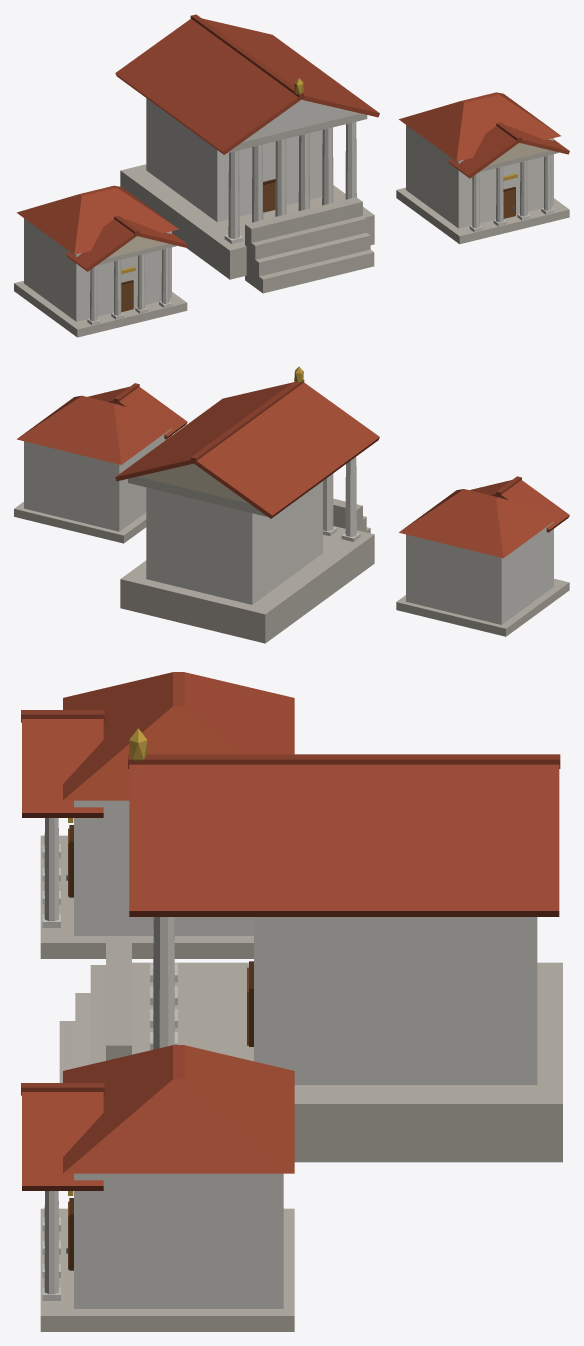
File: angel_court.glb
3 renders of one model, top to bottom at view 1: azimuth 30°, elevation 25°; view 2: azimuth 150°, elevation 25°; view 3: azimuth 270°, elevation 25°, orthographic. The views are drawn at different scales.
Parts seen in each view (by area): view 1: angel_court; view 2: angel_court; view 3: angel_court.
Part boxes in pixels (x1=…): angel_court: x1=14, y1=14, x2=569, y2=337; angel_court: x1=14, y1=366, x2=569, y2=643; angel_court: x1=21, y1=672, x2=562, y2=1331.
Bounding box in the file's own units: 6.18 × 2.25 × 2.95.
